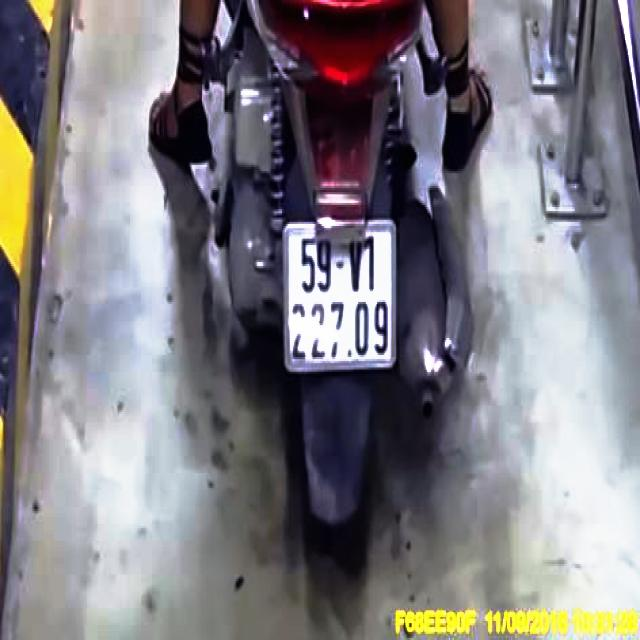license_plate: (291, 229, 396, 366)
